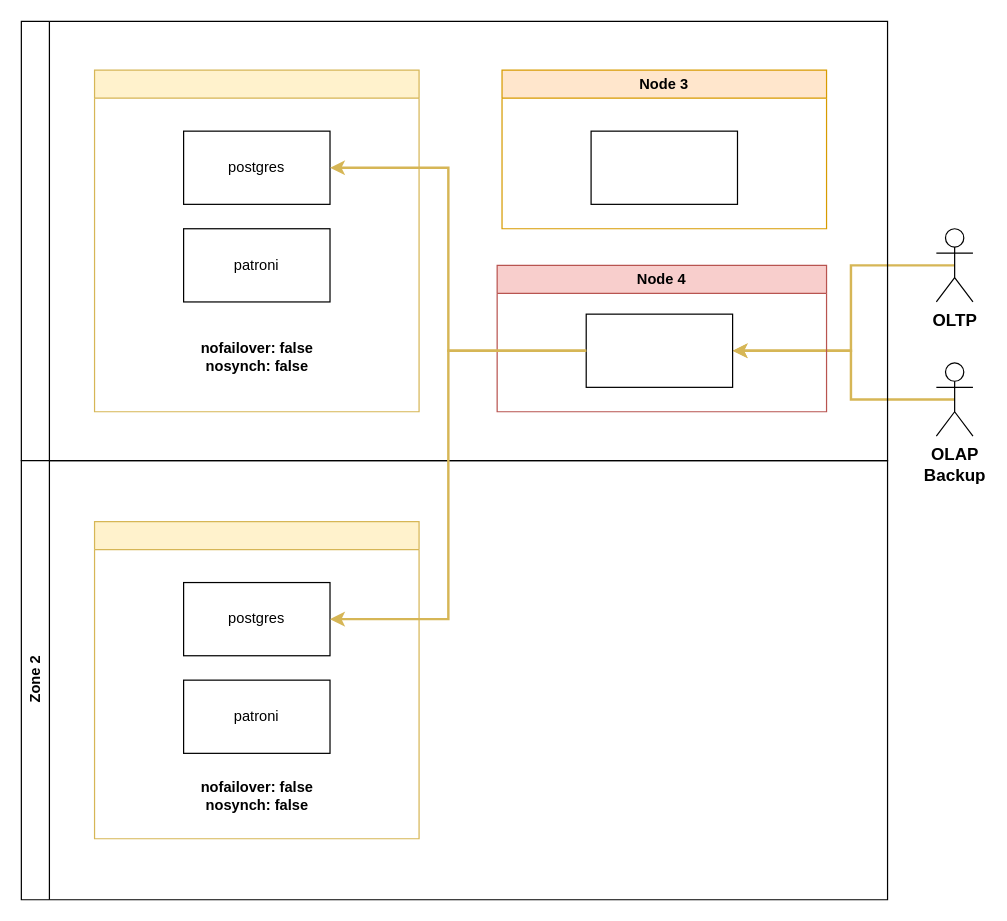
The diagram is 1007 pixels wide and 921 high, and some of its shapes have lost their labels. The box of each missing label's shape, as (x1, y1, x2, y2) in pixels:
etcd: (590, 130, 737, 204)
Node 1: (93, 69, 419, 412)
Node 2: (93, 520, 419, 839)
proxy: (585, 313, 733, 387)
Zone 1: (20, 20, 888, 461)
